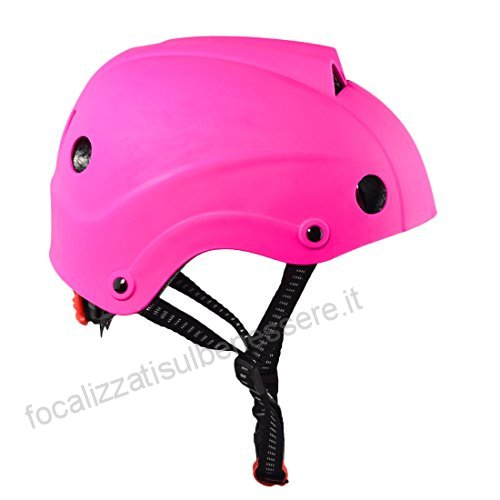elmetto: (30, 24, 456, 341)
